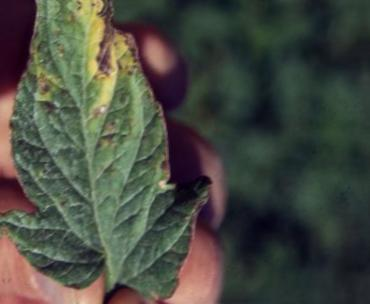Tomato leaf bacterial spot: (0, 0, 220, 304)
